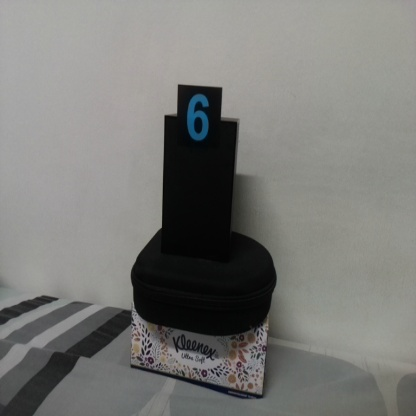id_6: (178, 85, 222, 163)
